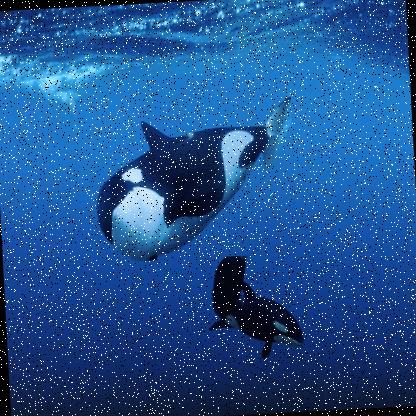killer_whale: (76, 88, 300, 264)
